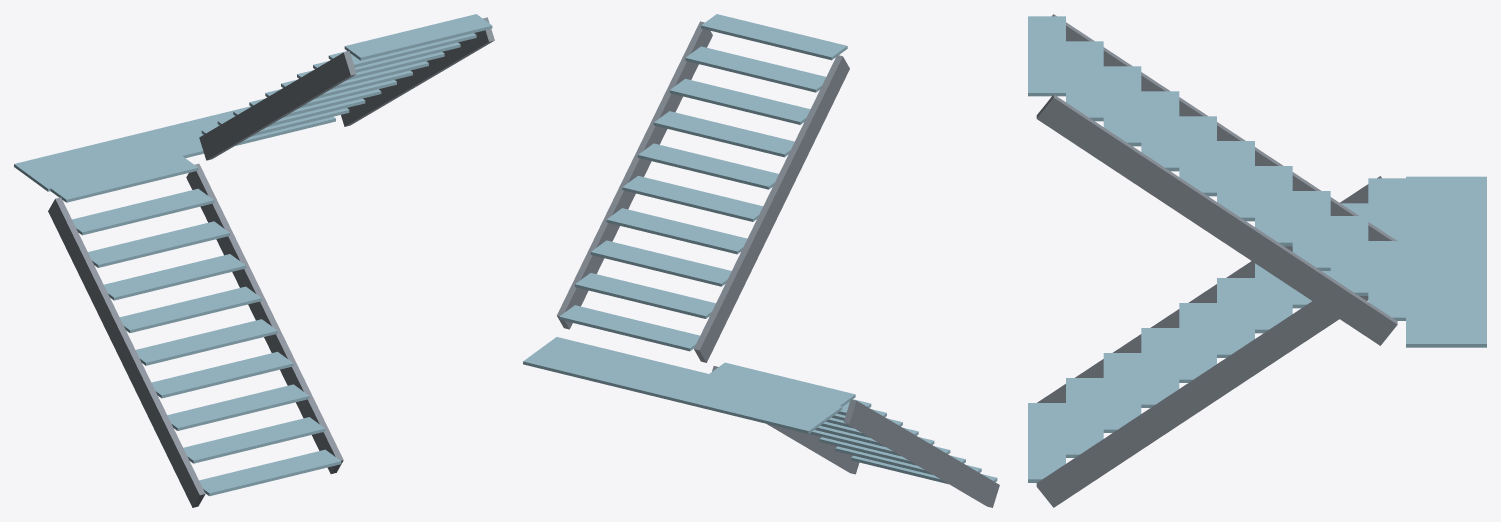
Rendered from glass-stairs-lite.glb.
3 views of the same model, side by side, from view 1: azimuth 30°, elevation 25°; view 2: azimuth 150°, elevation 25°; view 3: azimuth 270°, elevation 25° (orthographic). The views are drawn at different scales.
Parts seen in each view (by area): view 1: material-1-glass, material-0-metal; view 2: material-1-glass, material-0-metal; view 3: material-1-glass, material-0-metal.
Boxes of the visible parts, x1,y1,x2,y2 form: material-1-glass: (14,14,492,496); material-0-metal: (48,17,494,507); material-1-glass: (523,14,997,484); material-0-metal: (557,21,999,507); material-1-glass: (1028,16,1486,482); material-0-metal: (1036,14,1397,507).
Bounding box in the file's own units: 2.51 × 3.41 × 2.84.
